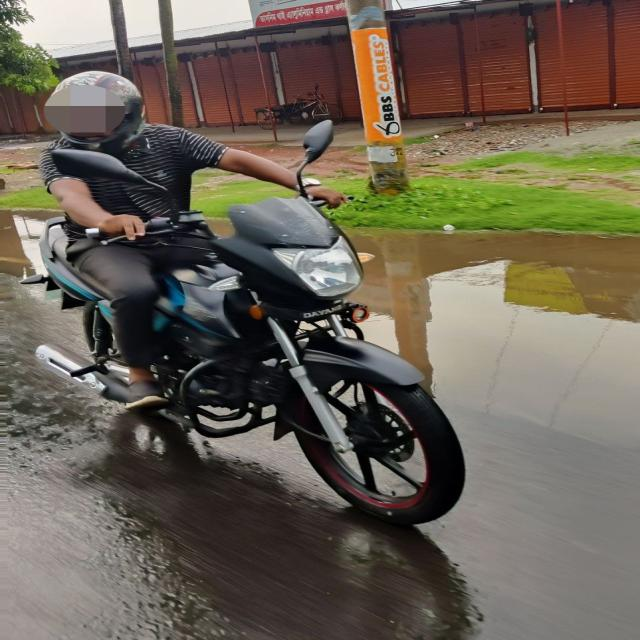Motorbike: (1, 158, 525, 548)
